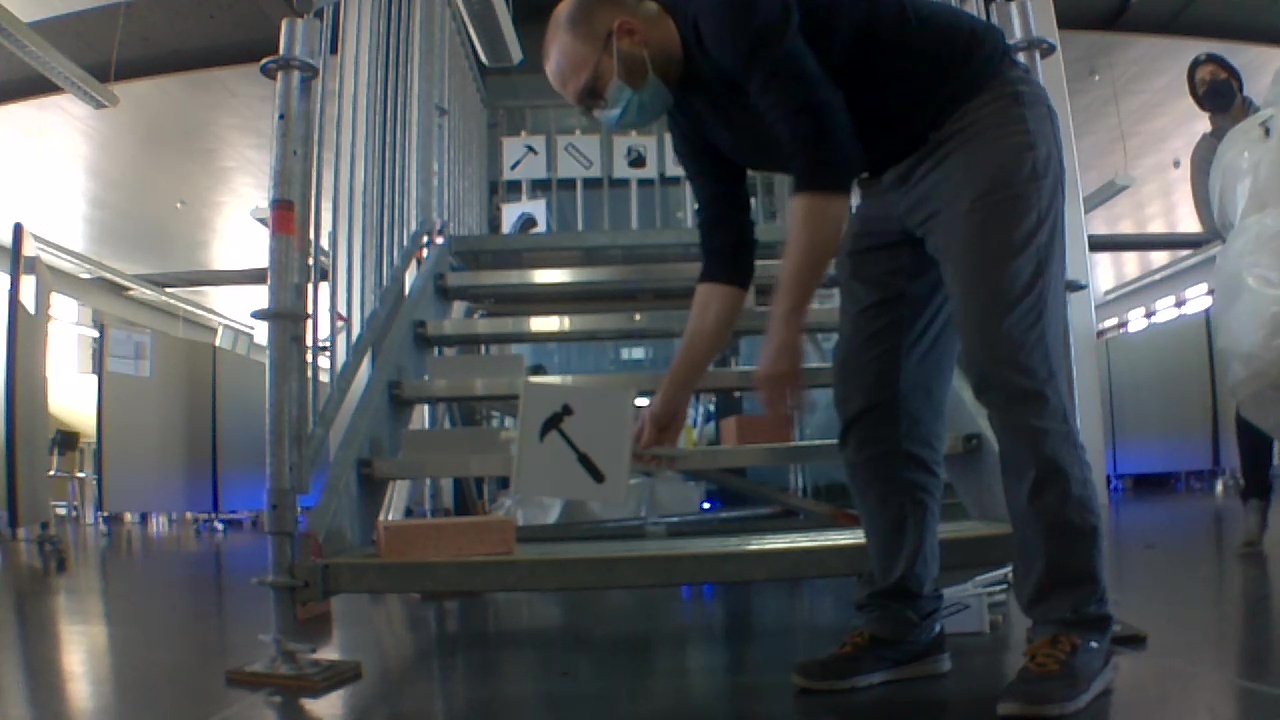brick: (375, 516, 513, 557), (401, 428, 499, 459), (426, 354, 523, 379), (722, 414, 792, 445)
bucket: (619, 140, 649, 170)
hammer: (531, 391, 609, 488), (508, 141, 544, 175)
ruler: (560, 137, 597, 172)
taco: (506, 207, 539, 236)
